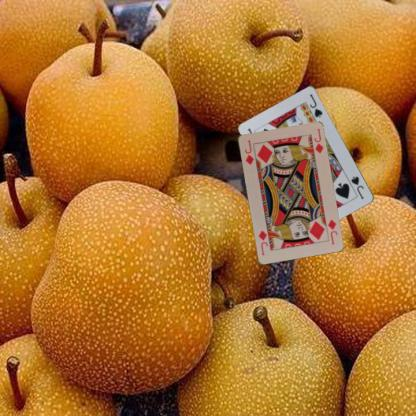Jd: (324, 216, 338, 246), (242, 137, 255, 166)
Js: (348, 174, 366, 200)
